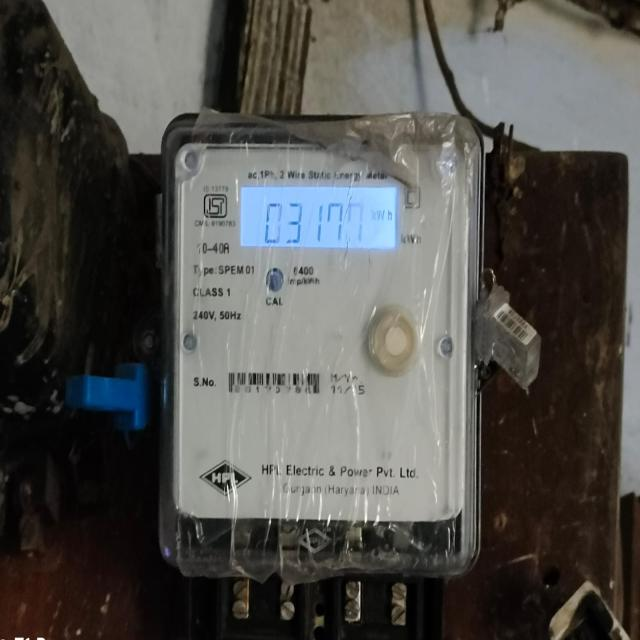display: (238, 180, 404, 256)
